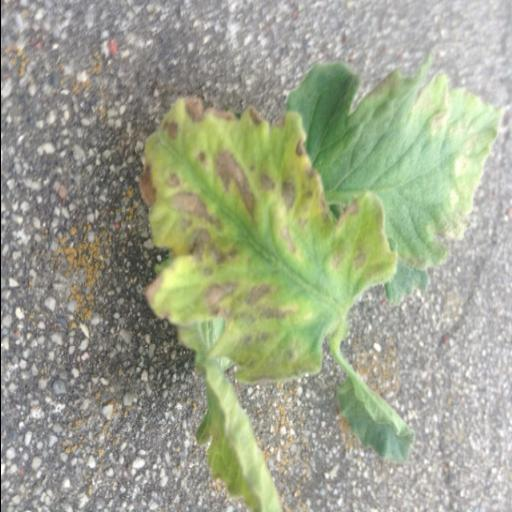disease_tomato: (140, 96, 394, 390), (290, 64, 504, 300)
